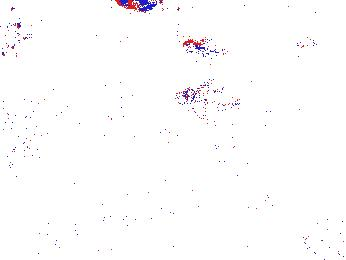X-ray fish: (173, 82, 240, 119)
red belly glassfish: (182, 37, 229, 59), (277, 37, 316, 55), (113, 1, 163, 11)
